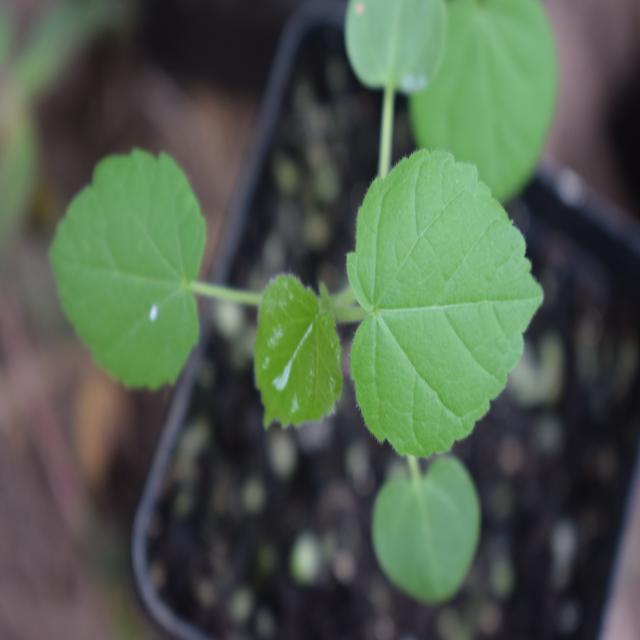abutilon theophrasti: (47, 135, 546, 583)
